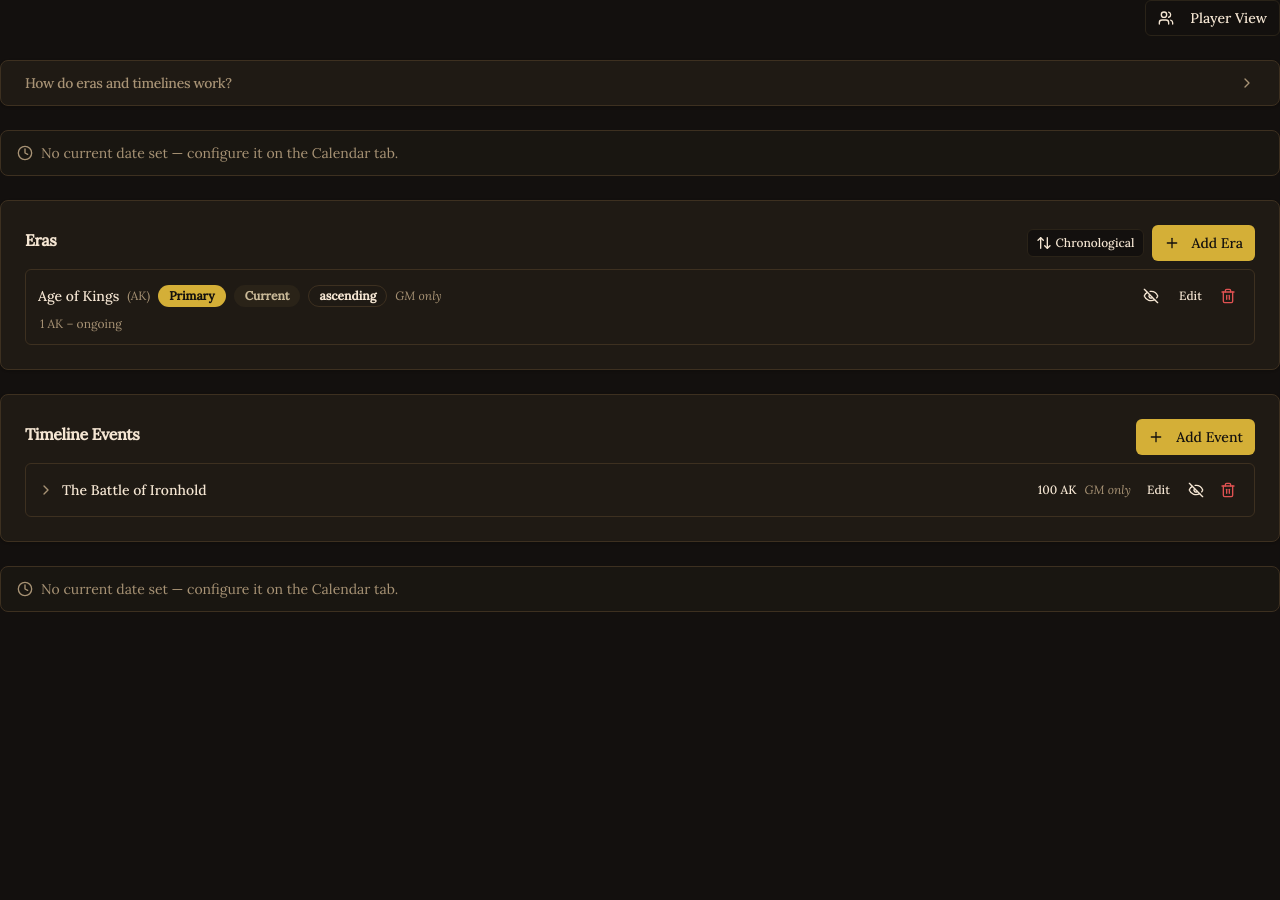
Test: TimelineTab — linked NPC and location names in expanded event › shows npc_name from the link response — not "NPC #N"
The image size is (1280, 900).
Click the text "The Battle of Ironhold": click(134, 490) [62, 481, 206, 499]
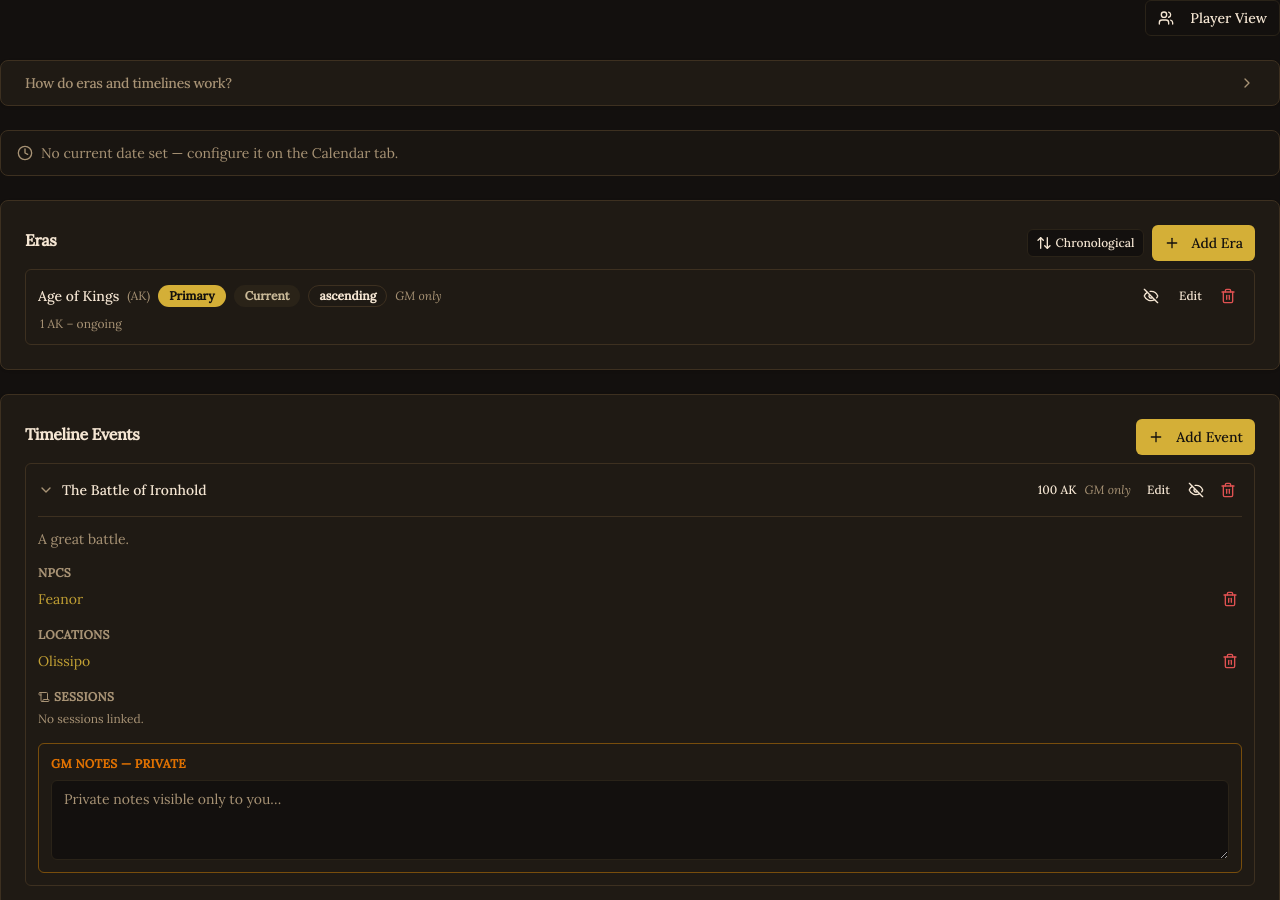
Result: the button "Feanor" is shown at [38, 589, 1210, 609]
